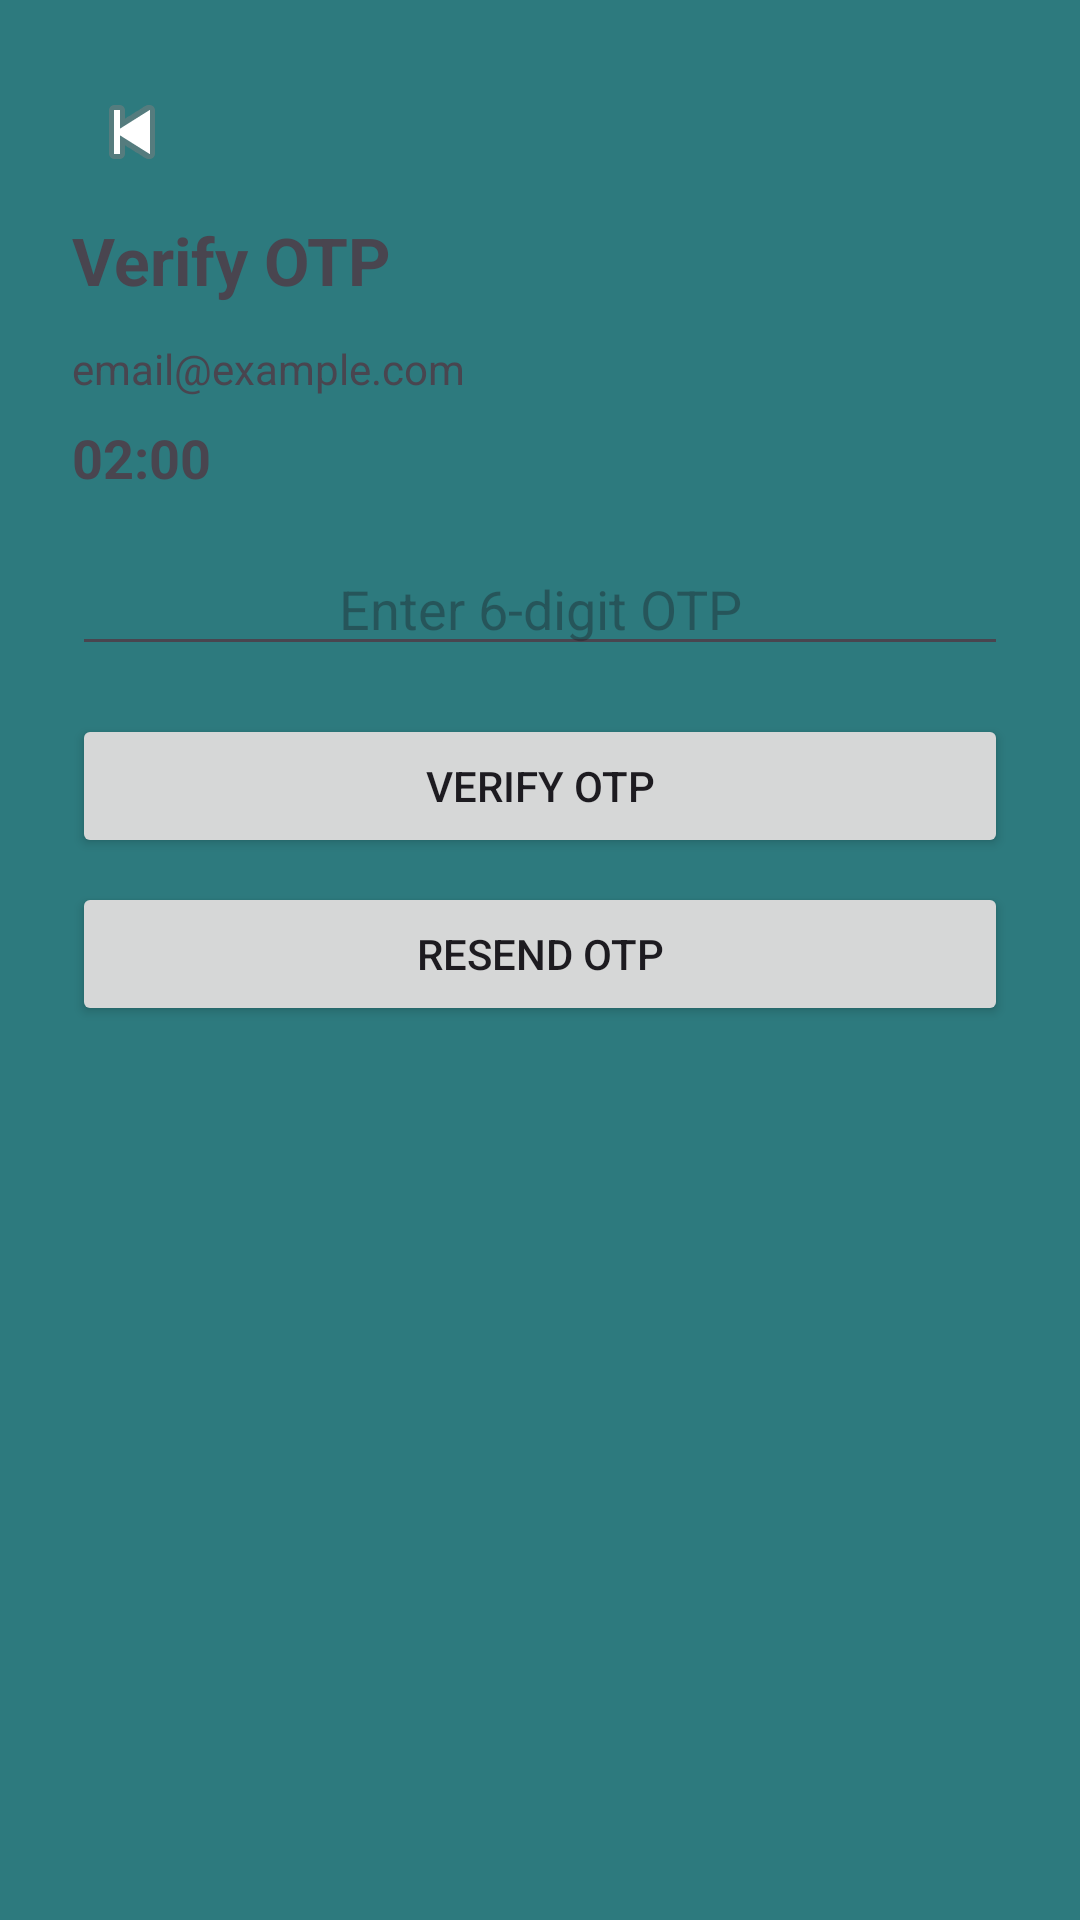

Where icons sit on this 1080w x 1920h app screen, as box=[x1, y1, x2, y2]:
Back: box=[109, 105, 155, 159]
